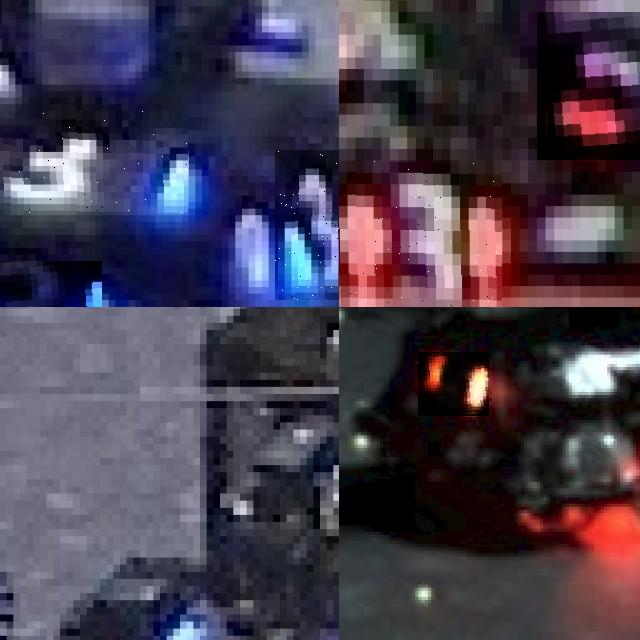B3: (0, 110, 188, 215), (275, 150, 339, 300), (0, 261, 101, 307)
R3: (339, 160, 502, 307), (536, 11, 640, 160)
Rs: (418, 352, 489, 416)
